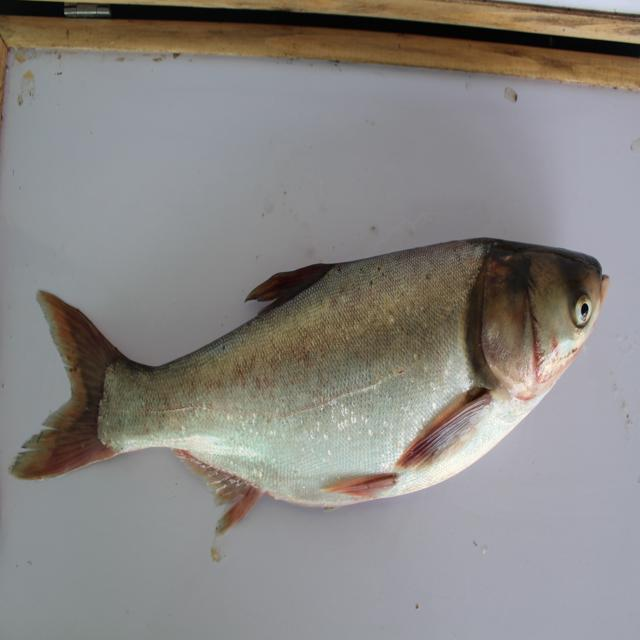SilverCarp: (32, 225, 606, 539)
